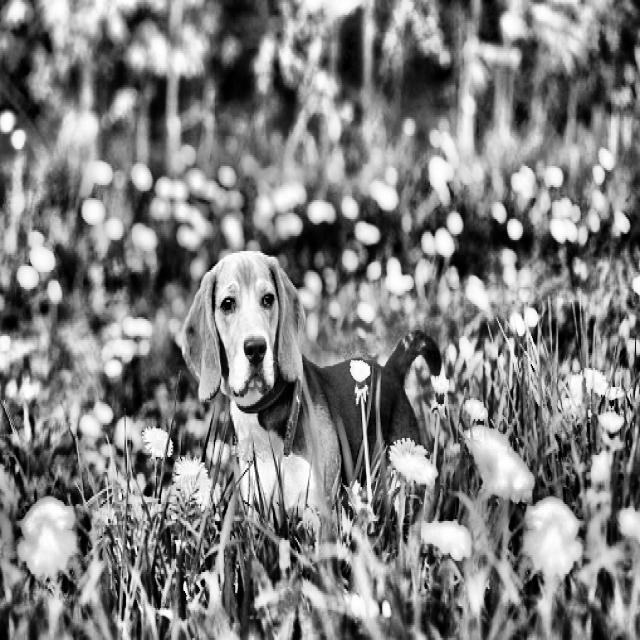beagle: (170, 228, 318, 422)
